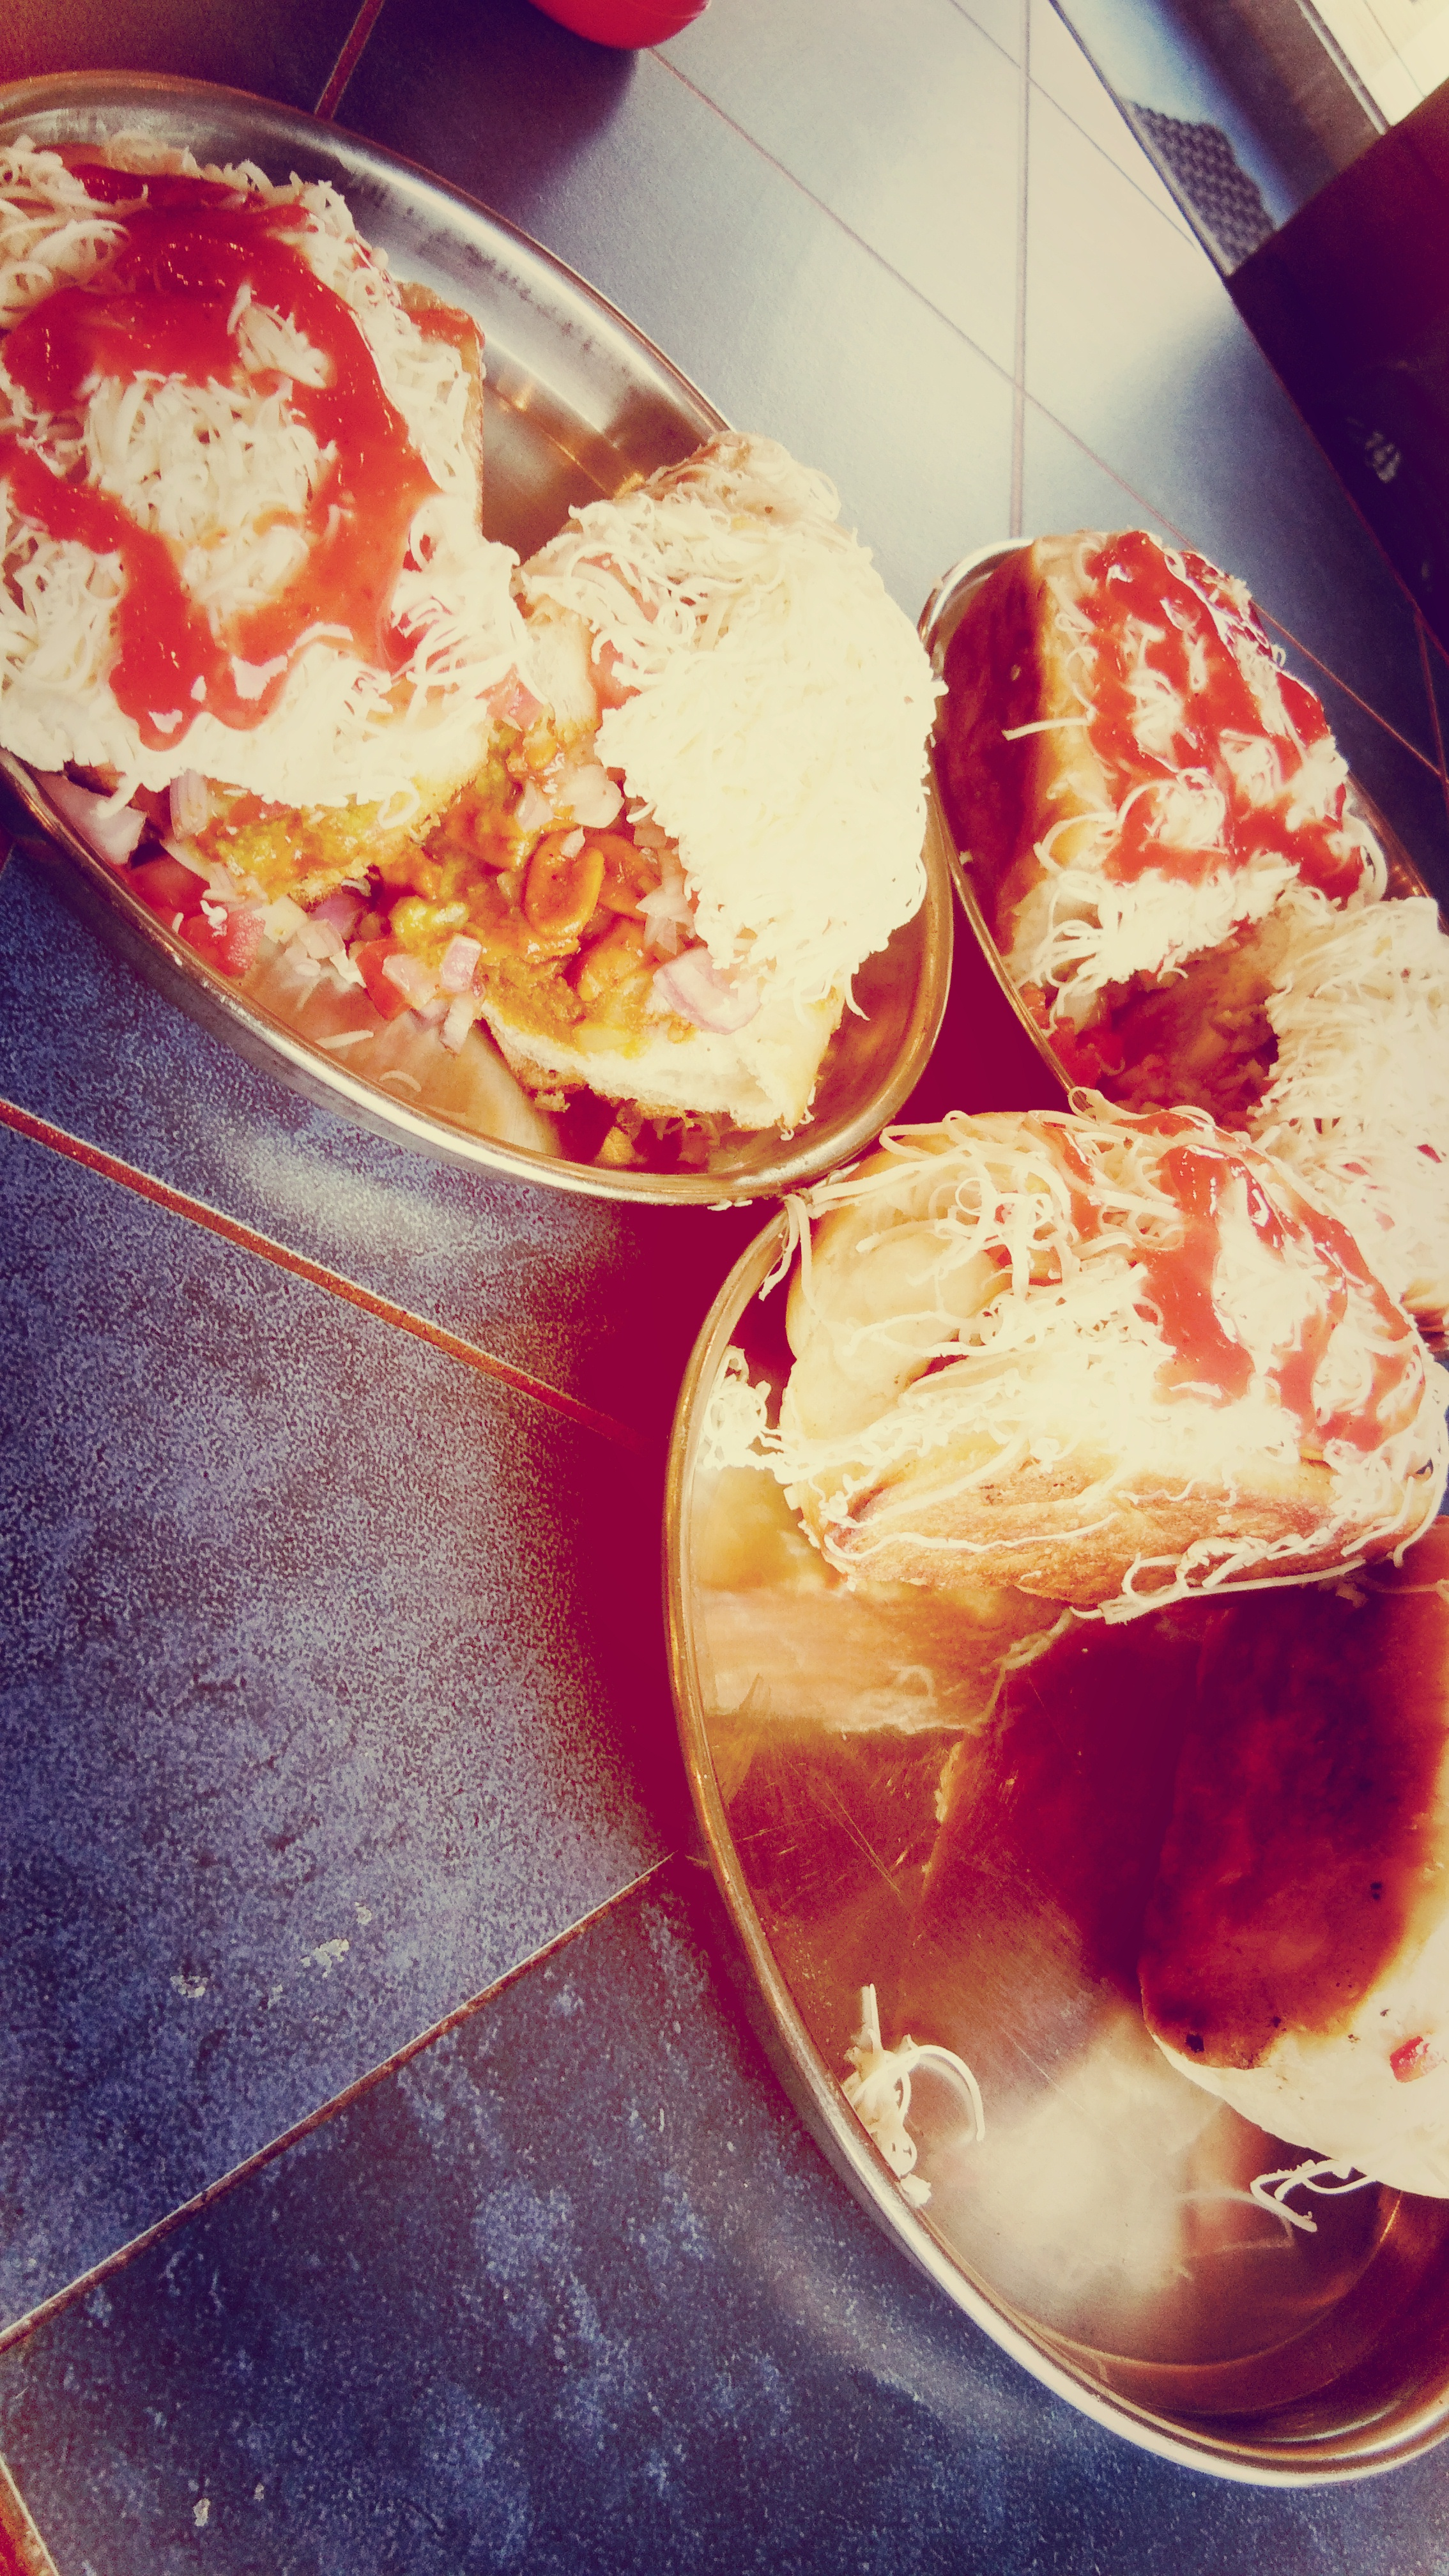food: (2, 117, 955, 1145), (701, 1076, 1449, 2238), (982, 520, 1449, 1338)
